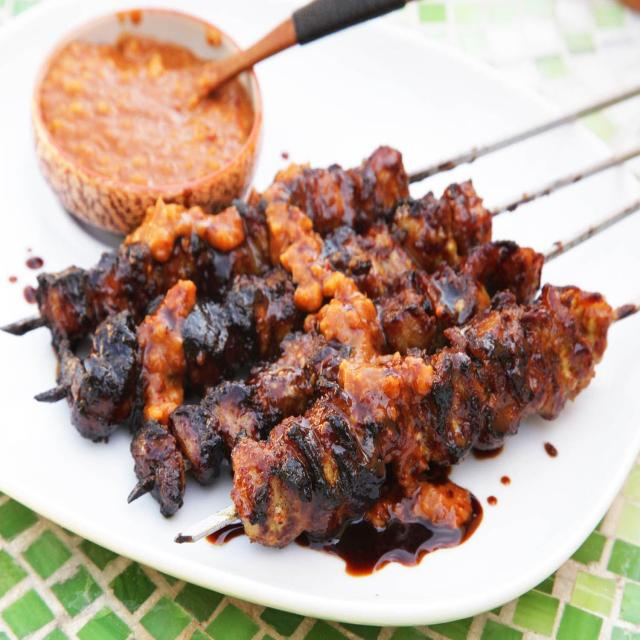Sate: (35, 149, 640, 554)
